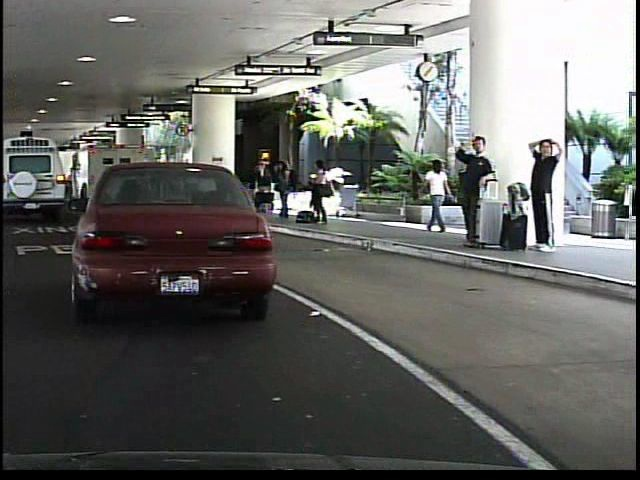person: (450, 133, 495, 249), (526, 127, 564, 252), (418, 154, 452, 235), (306, 157, 333, 225)
